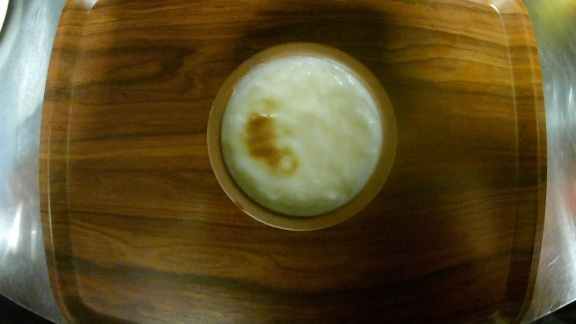sutlac: (207, 43, 399, 229)
